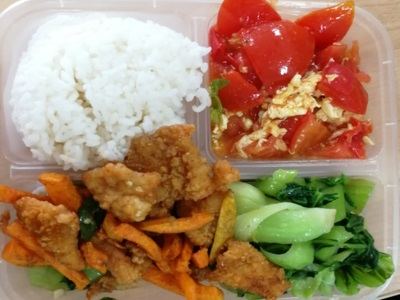cyc: (246, 176, 392, 292)
jdxhs: (207, 10, 368, 156)
r5: (10, 164, 219, 293)
rice: (25, 16, 168, 147)
